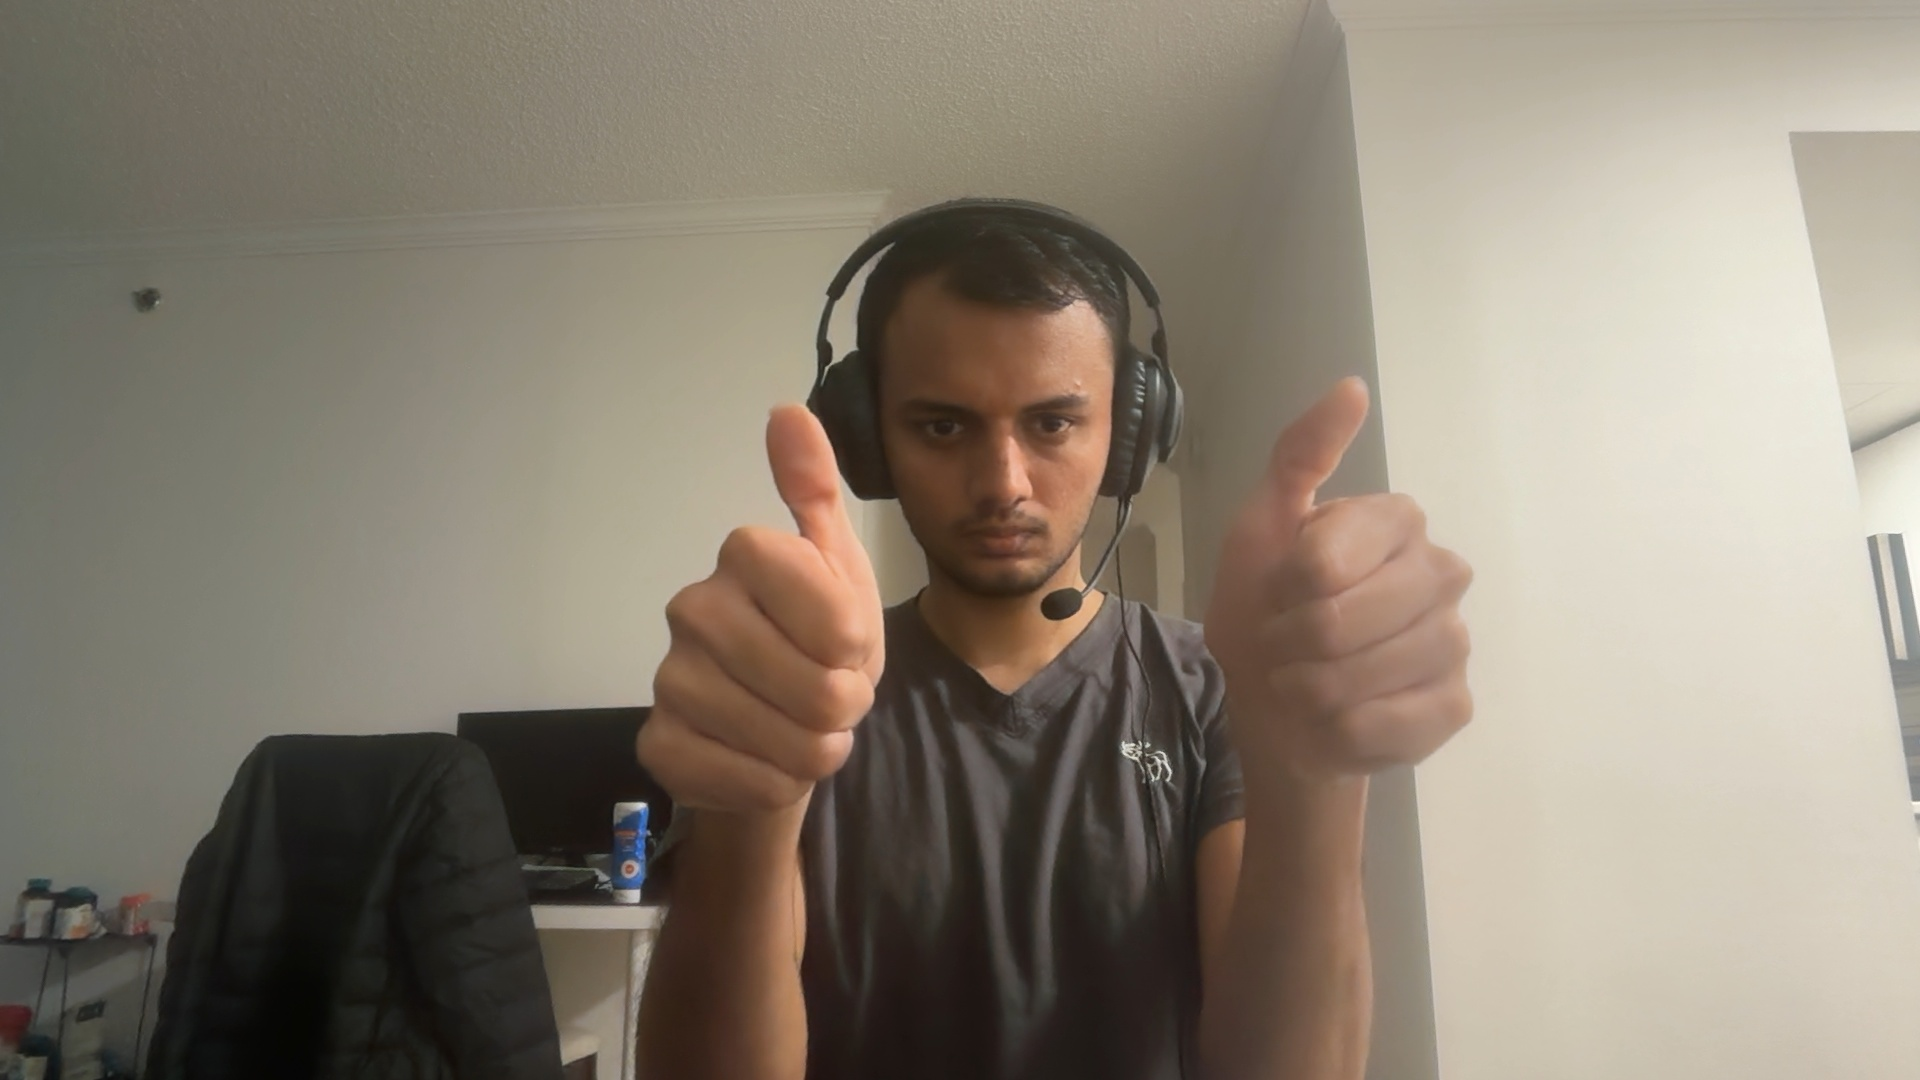thumbsup: (1221, 378, 1477, 778), (636, 404, 885, 811)
